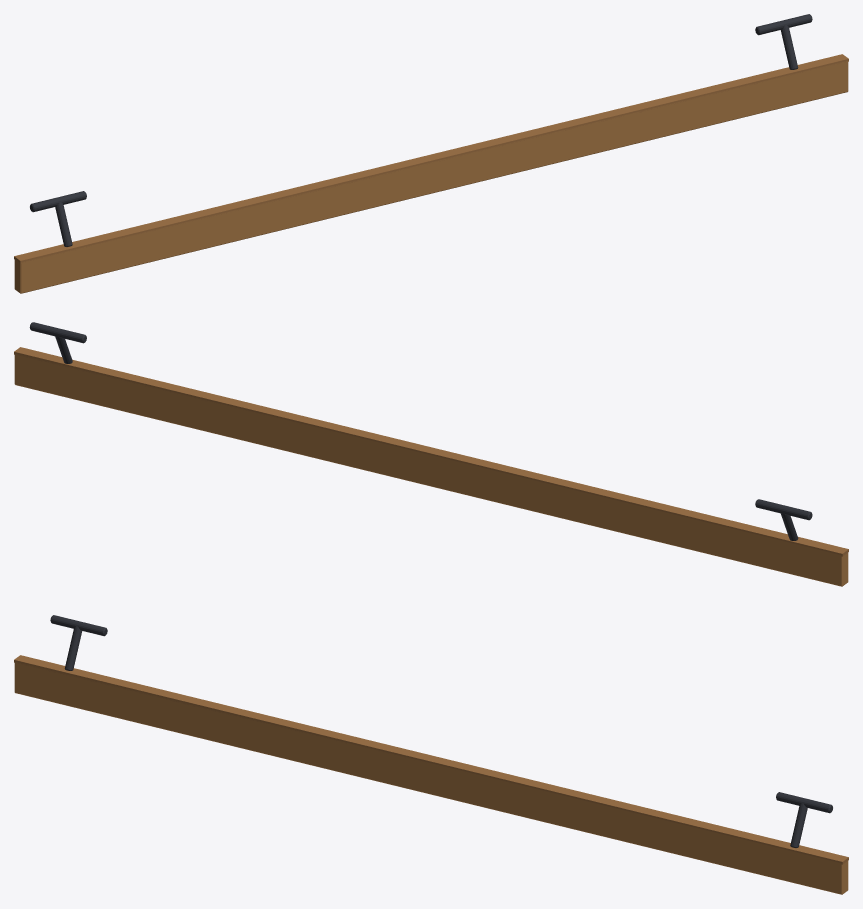
The model's file is ScreedBoard.glb.
The picture shows the model from 3 angles, top to bottom: view 1: azimuth 30°, elevation 25°; view 2: azimuth 150°, elevation 25°; view 3: azimuth 330°, elevation 25°; orthographic projection.
Visible parts, largest first — view 1: Body; view 2: Body; view 3: Body.
Boxes of the visible parts, bbox=[...] form: Body: bbox=[14, 14, 848, 293]; Body: bbox=[14, 322, 848, 586]; Body: bbox=[14, 615, 848, 894].
Size of the model in its own units: 3.7 by 0.3165 by 0.1215.
